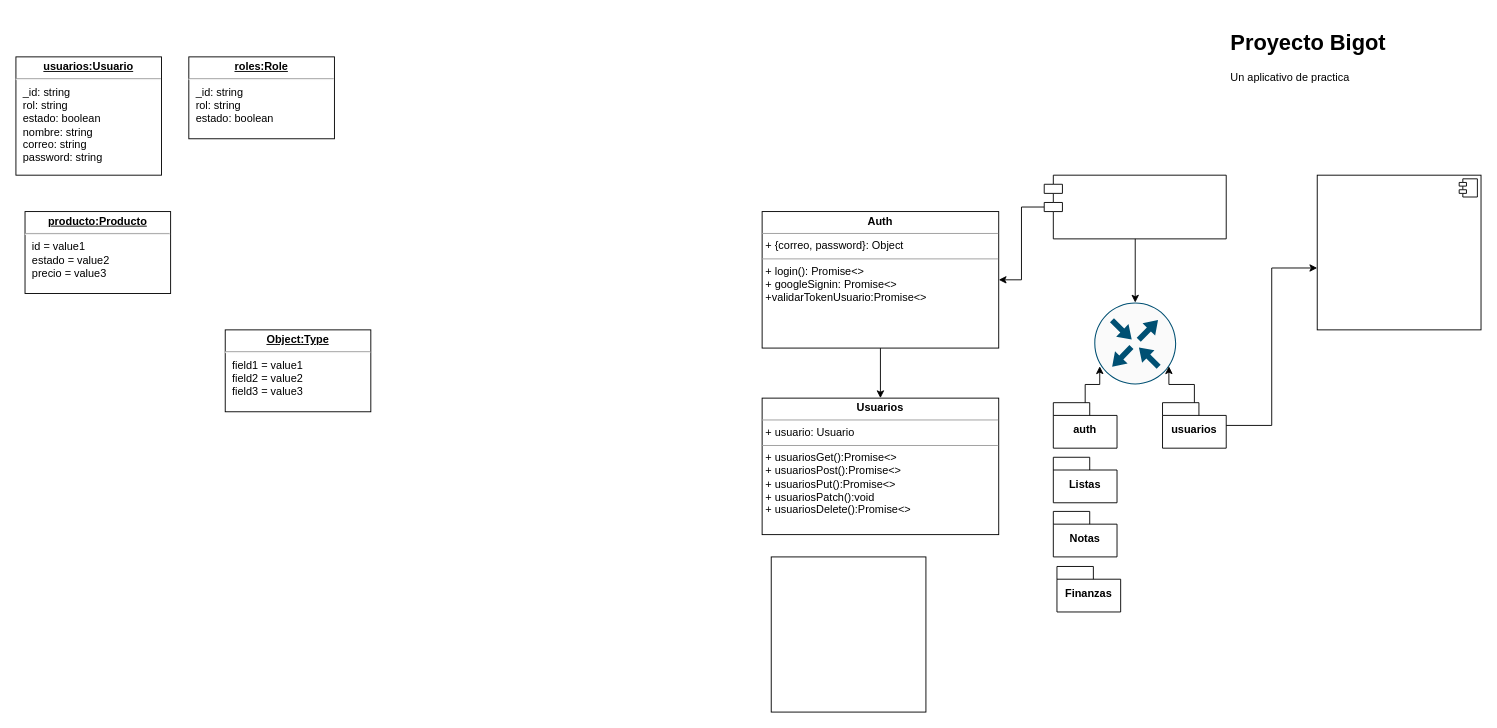
Image size: 1497x728. Some labels were removed from this diagram. The shapes that lost their labels are listed below. From the top down, each one's centre as x and y in pixels, then its label:
At pixel 1134 206: "Login".
At pixel 1398 252: "Home + Notas: Nota[]".
At pixel 1134 343: "Router".
At pixel 848 634: "Notas + nota: Nota + save(): Nota + update(): Nota + delete: Nota + get(): Nota".
